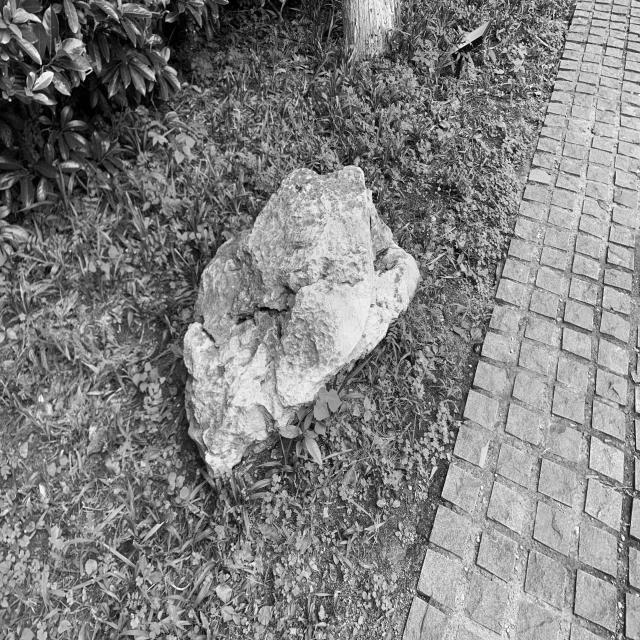Stone: (184, 166, 420, 473)
